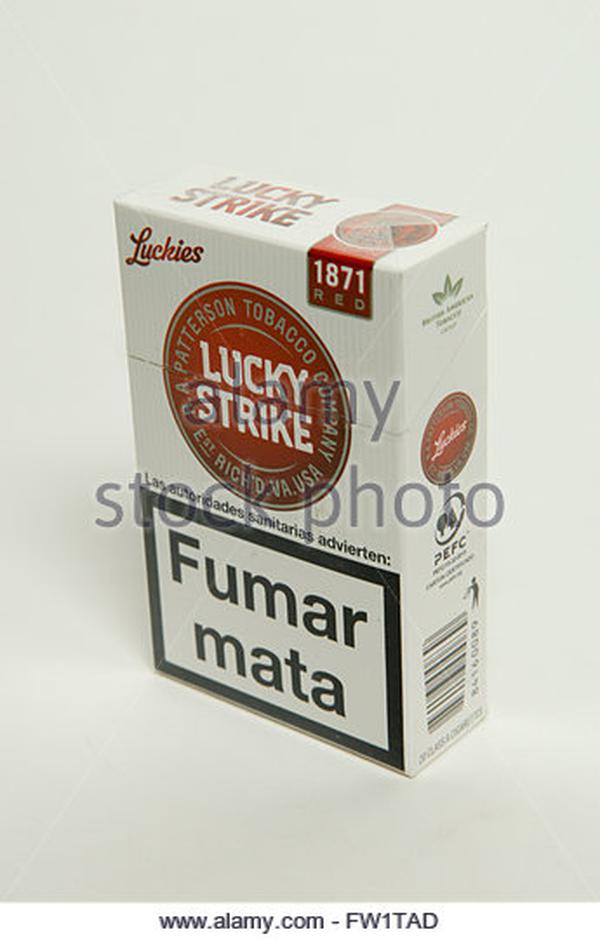lucky_strike_red: (148, 255, 390, 673)
